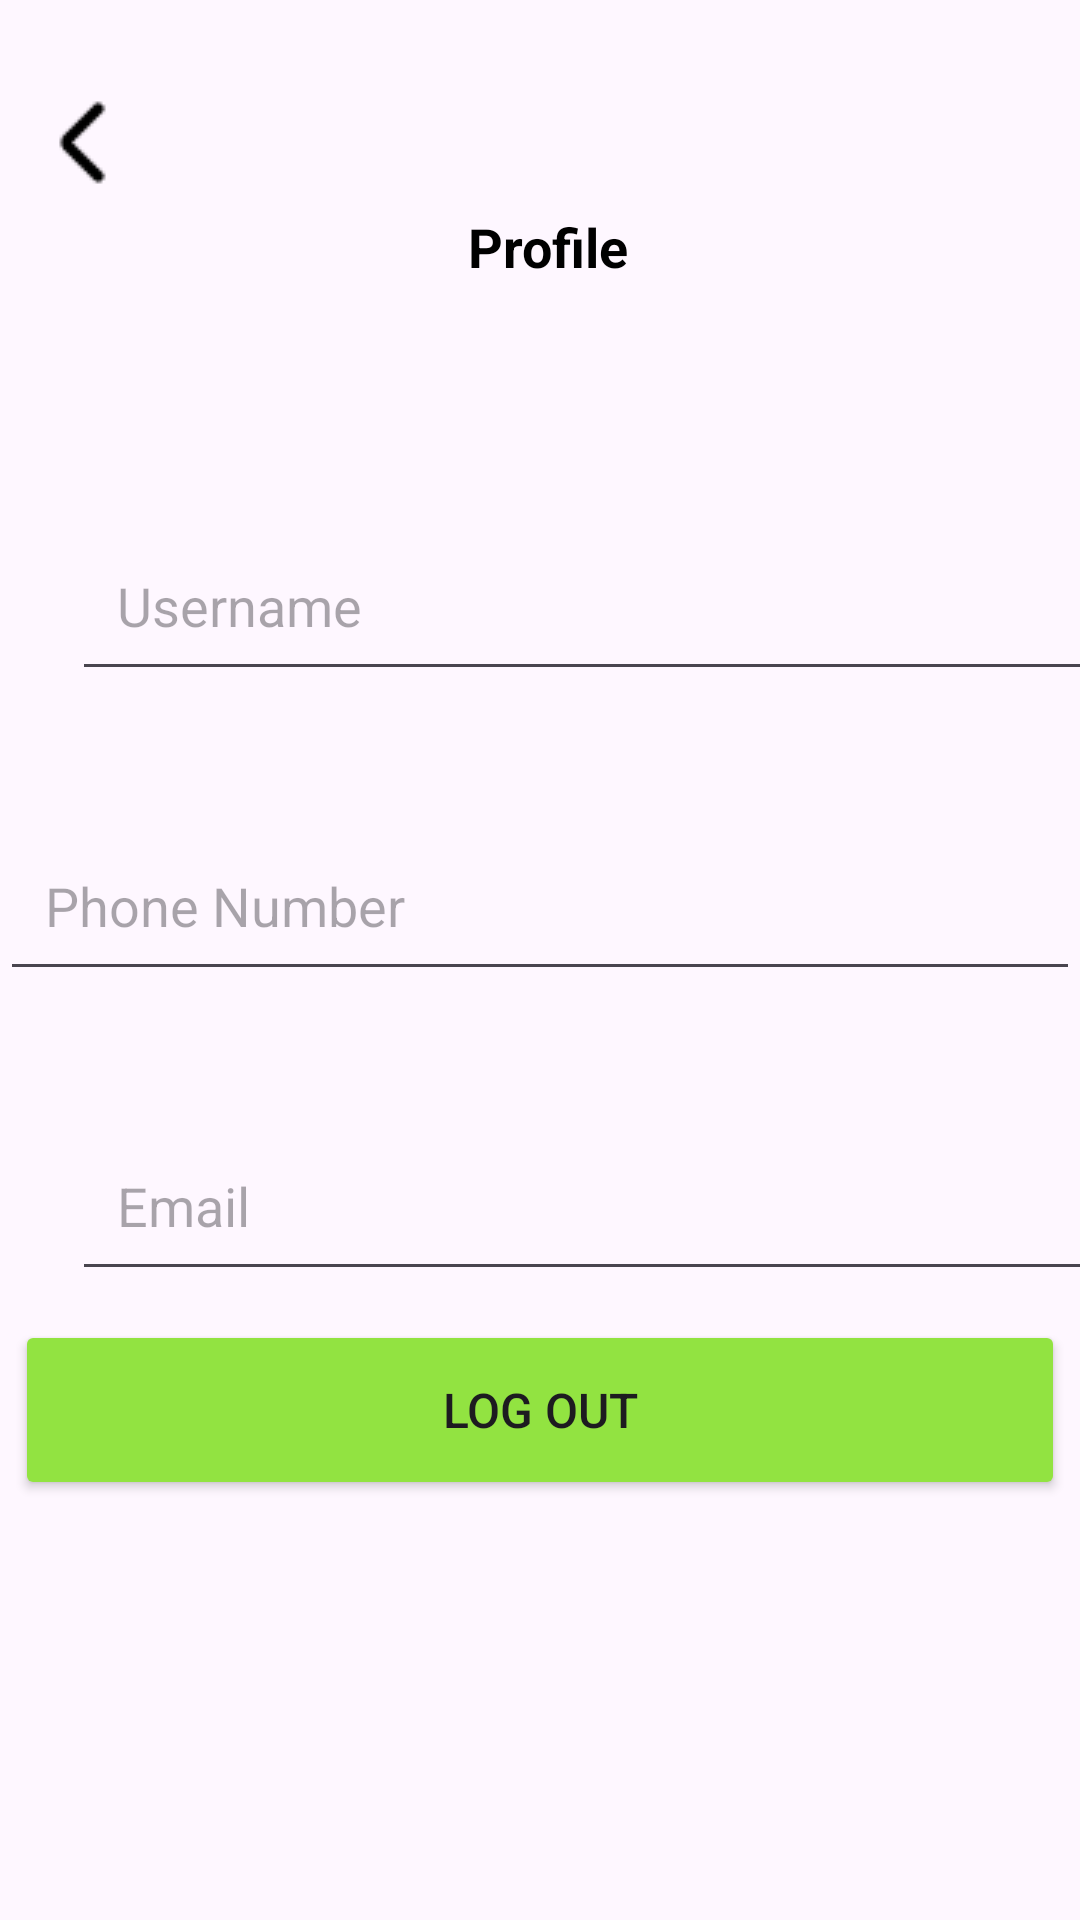

Point at icon controls on the screen. Image size 1080*1920, points as point (x, y).
back arrow: point (82, 142)
